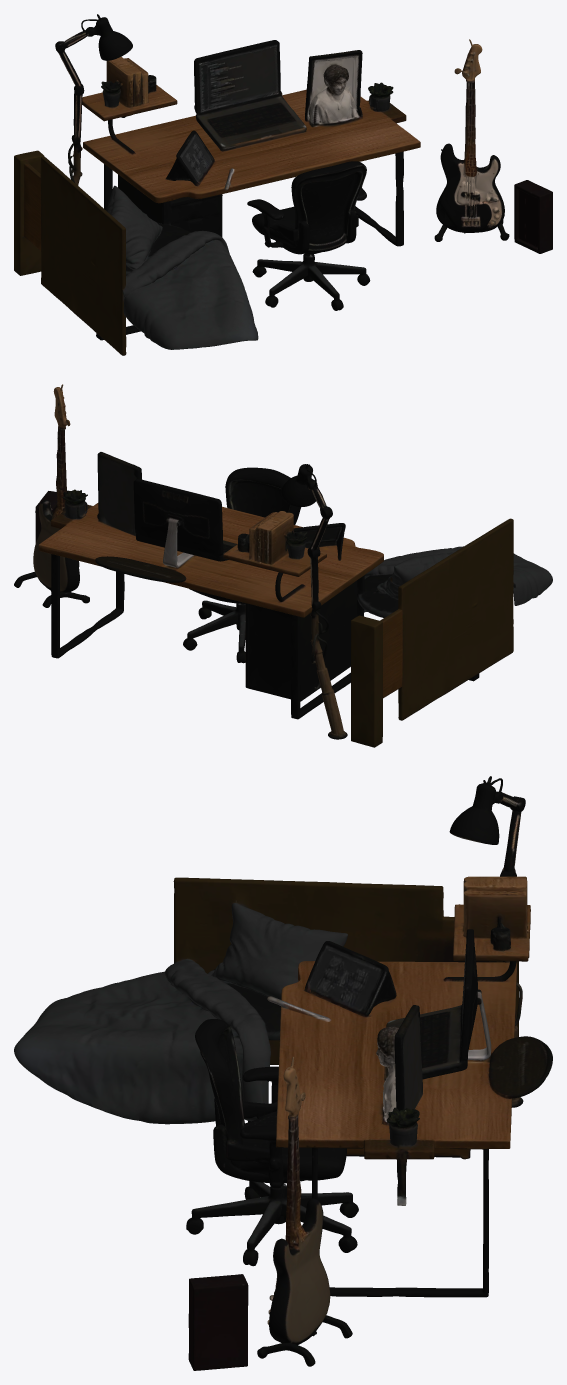
File: room-3d.glb
3 renders of one model, top to bottom at view 1: azimuth 30°, elevation 25°; view 2: azimuth 150°, elevation 25°; view 3: azimuth 270°, elevation 25°, orthographic. The views are drawn at different scales.
Visible parts, largest first — view 1: tripo_node_ea366ce3-75f6-42dc-ad20-02c5131ed846, bass; view 2: tripo_node_ea366ce3-75f6-42dc-ad20-02c5131ed846, bass; view 3: tripo_node_ea366ce3-75f6-42dc-ad20-02c5131ed846, bass.
Boxes of the visible parts, left/top/right/bottom form: tripo_node_ea366ce3-75f6-42dc-ad20-02c5131ed846: left=14, top=14, right=552, bottom=355; bass: left=434, top=39, right=509, bottom=241; tripo_node_ea366ce3-75f6-42dc-ad20-02c5131ed846: left=35, top=452, right=552, bottom=747; bass: left=14, top=384, right=89, bottom=607; tripo_node_ea366ce3-75f6-42dc-ad20-02c5131ed846: left=14, top=776, right=552, bottom=1370; bass: left=257, top=1056, right=352, bottom=1366.
Size of the model in its own units: 1 by 0.5534 by 0.7466.
1 material, 1 textured.
